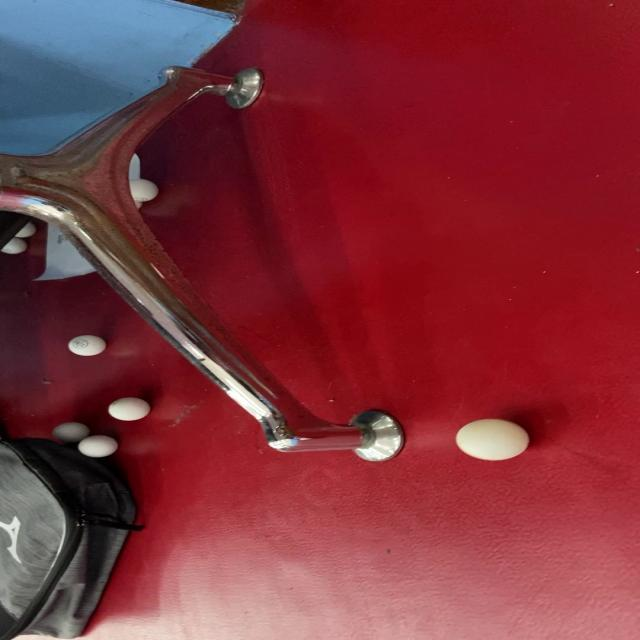ping-pong-ball: (452, 416, 534, 462), (100, 394, 156, 424), (72, 432, 125, 459), (125, 176, 166, 203), (63, 334, 109, 358)
